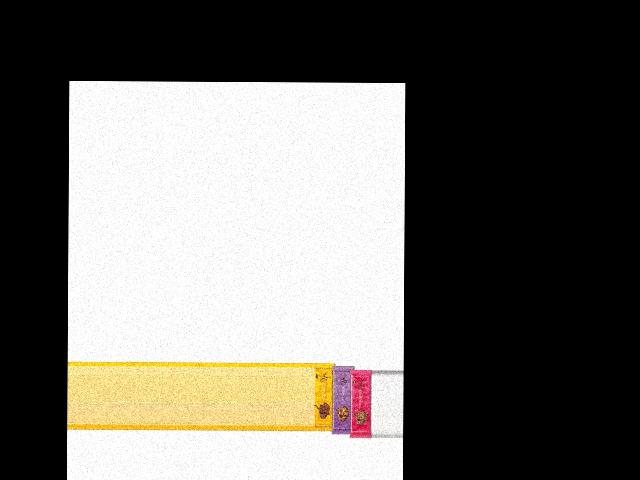chocolate: (350, 366, 372, 442)
